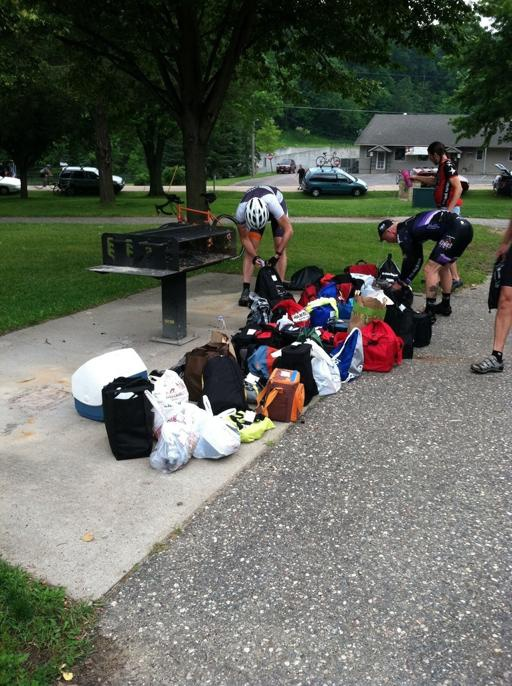non-vehicle: (154, 187, 245, 259), (315, 150, 340, 166), (33, 175, 57, 189)
